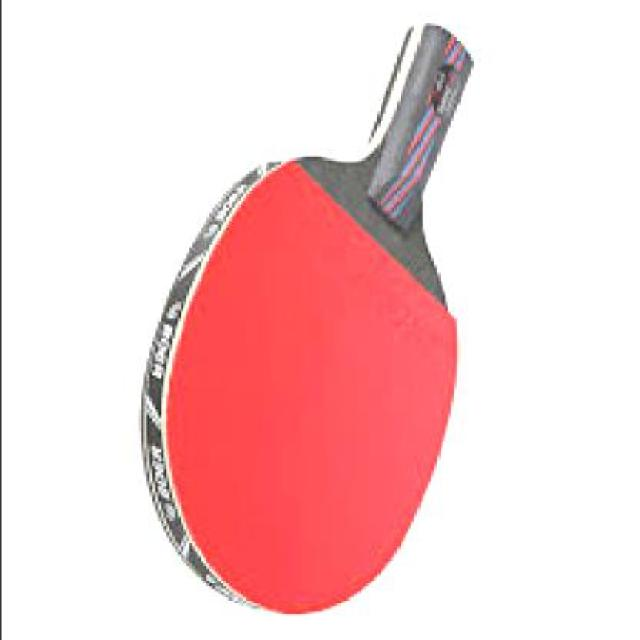table_tennis_racket: (138, 153, 464, 618)
